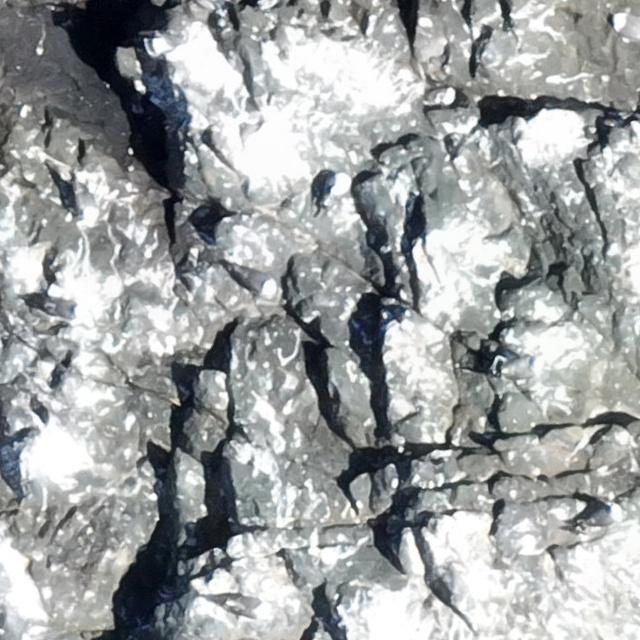umineko: (230, 265, 276, 298), (40, 290, 85, 322), (70, 178, 100, 226), (226, 595, 273, 623), (576, 505, 624, 531), (504, 355, 550, 377), (323, 172, 349, 207)
